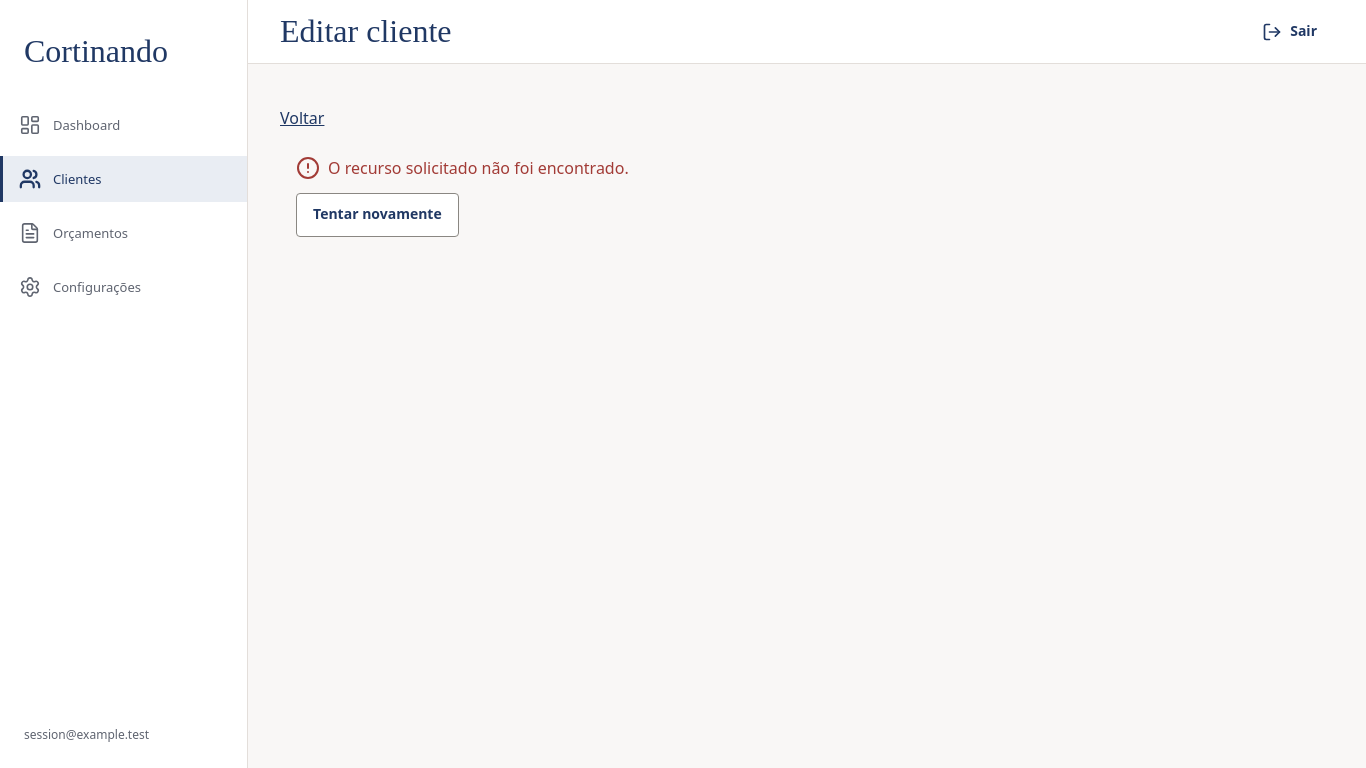
Test: shows edit loading and fetch failure with retry instead of an empty form
Check: the message "O recurso solicitado não foi encontrado." is shown, box [296, 156, 629, 181]
Check: the field labelled "Nome (obrigatório)" is not shown
Click the button "Tentar novamente": (377, 215) [296, 193, 459, 237]
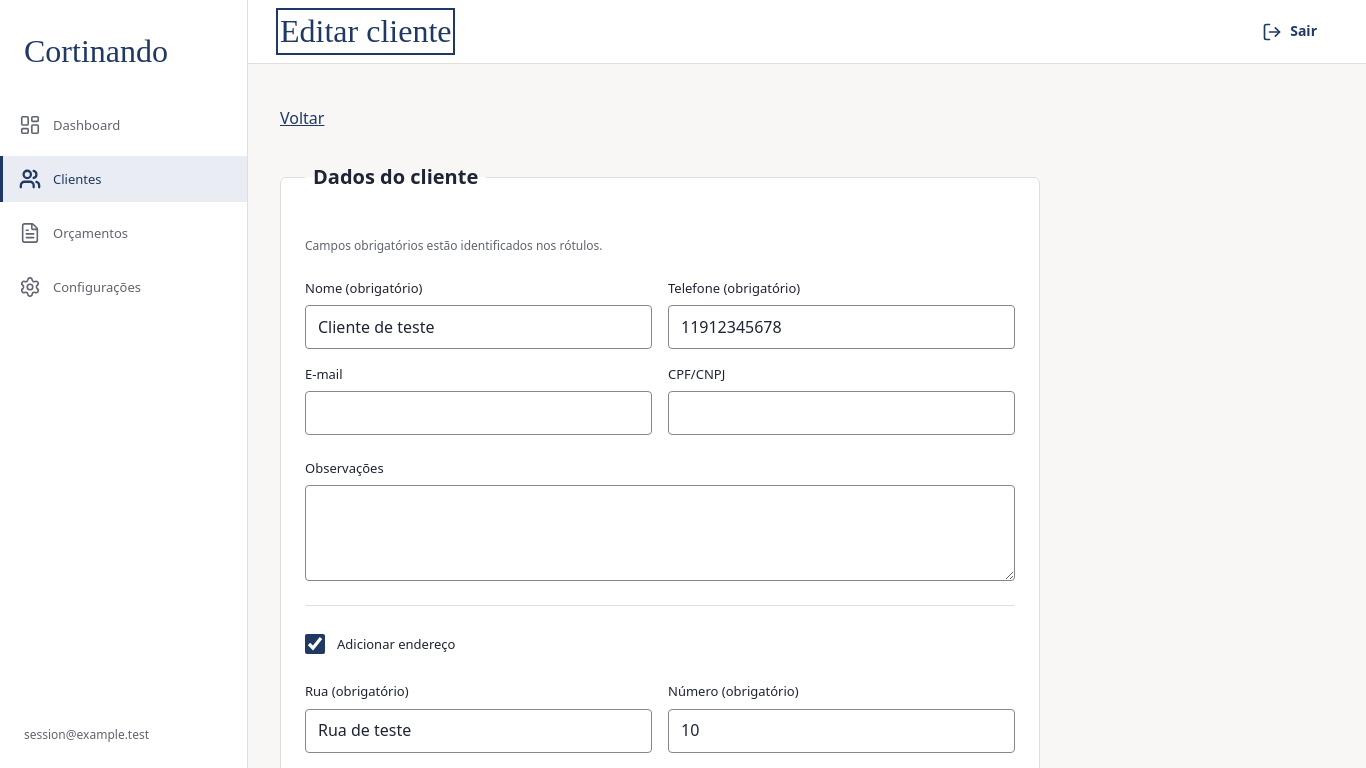
Check: the field labelled "Nome (obrigatório)" holds "Cliente de teste", box [305, 305, 652, 349]
